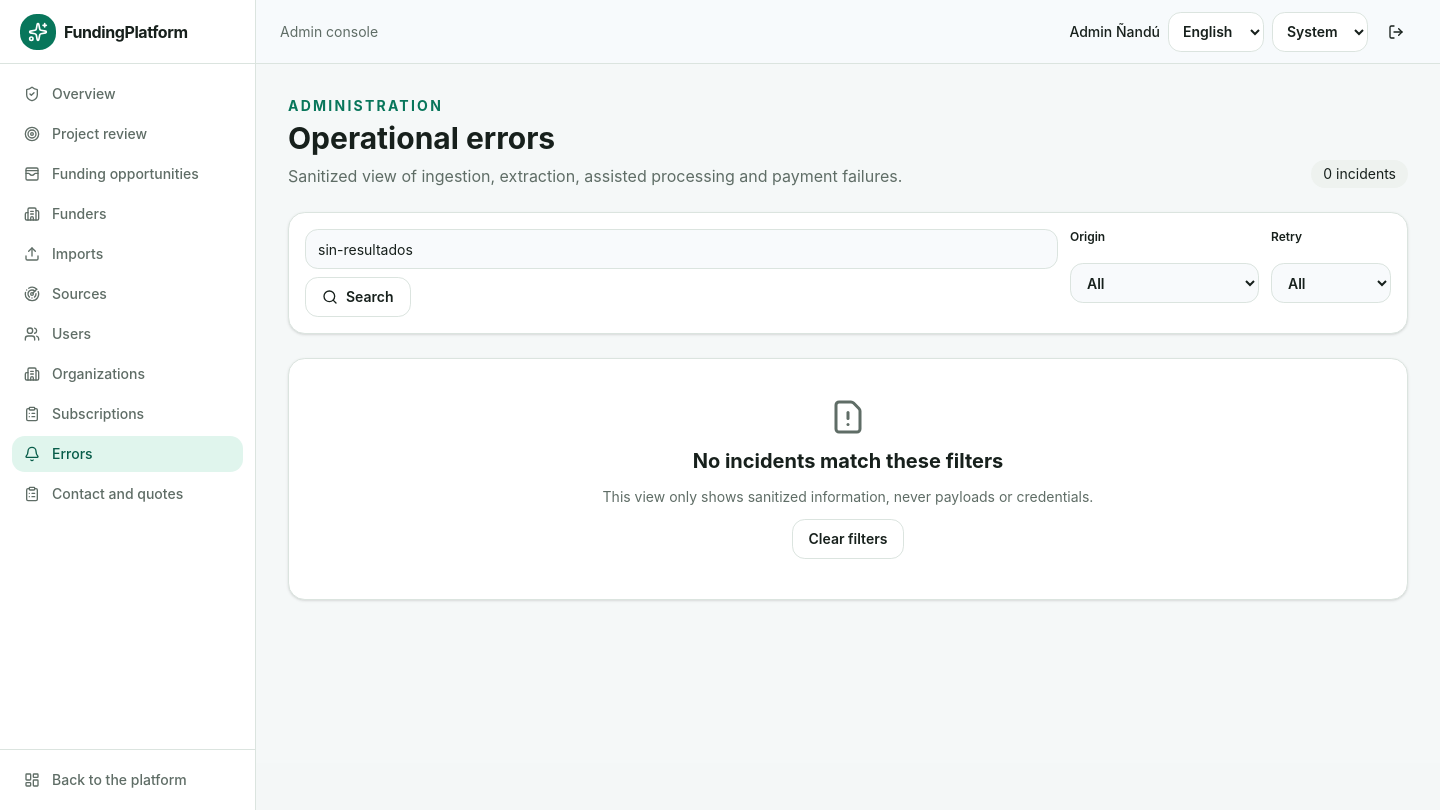
Test: I18N05D operational read views › translates empty state and clears filters explicitly on /admin/errors
Expected: the heading "Operational errors" is shown, left=288, top=120, right=555, bottom=156
Expected: the heading "No incidents match these filters" is shown, left=693, top=449, right=1003, bottom=473
Click the button "Clear filters".
click(848, 539)  # box left=792, top=519, right=904, bottom=559
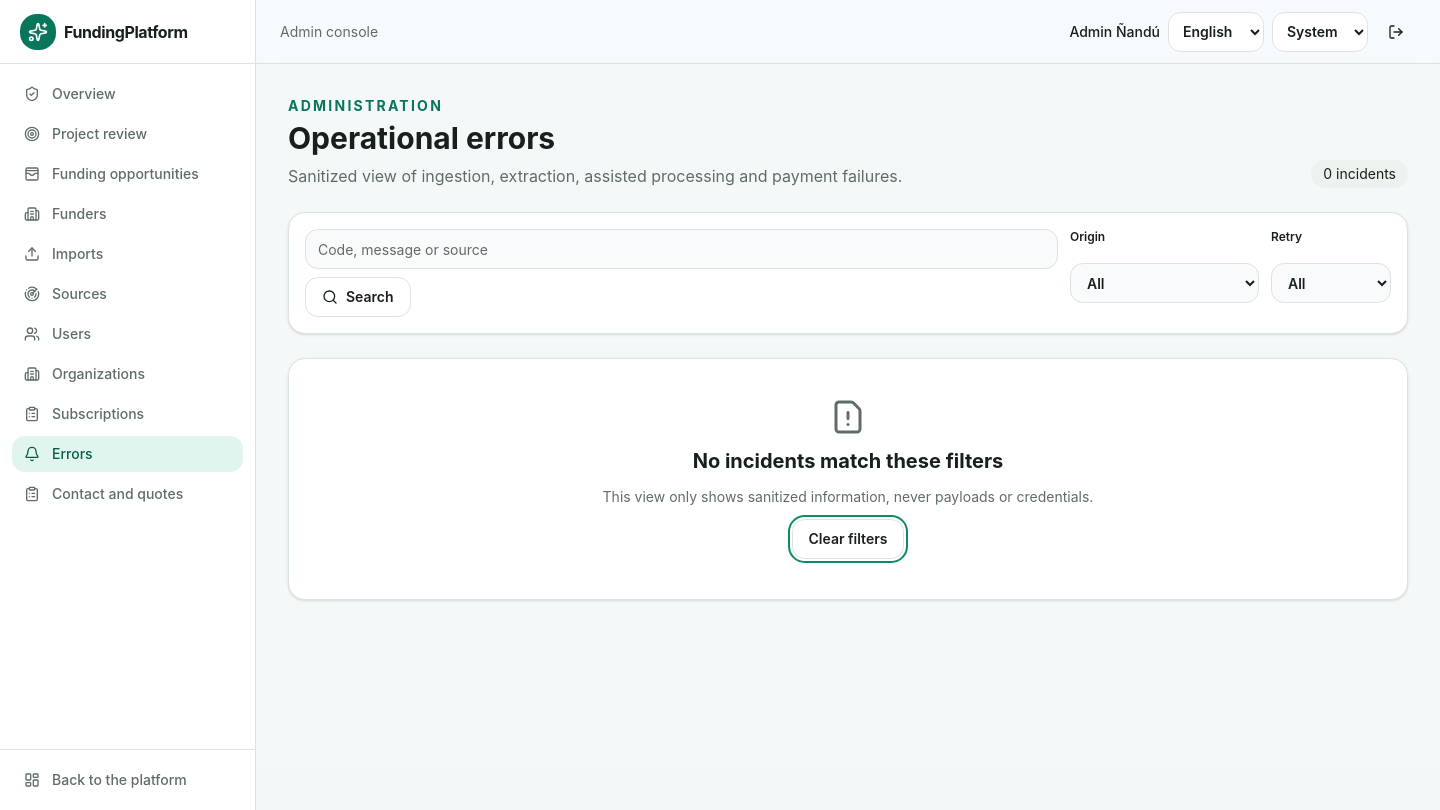
Now the field named "Search errors" is empty, box left=305, top=229, right=1058, bottom=269
